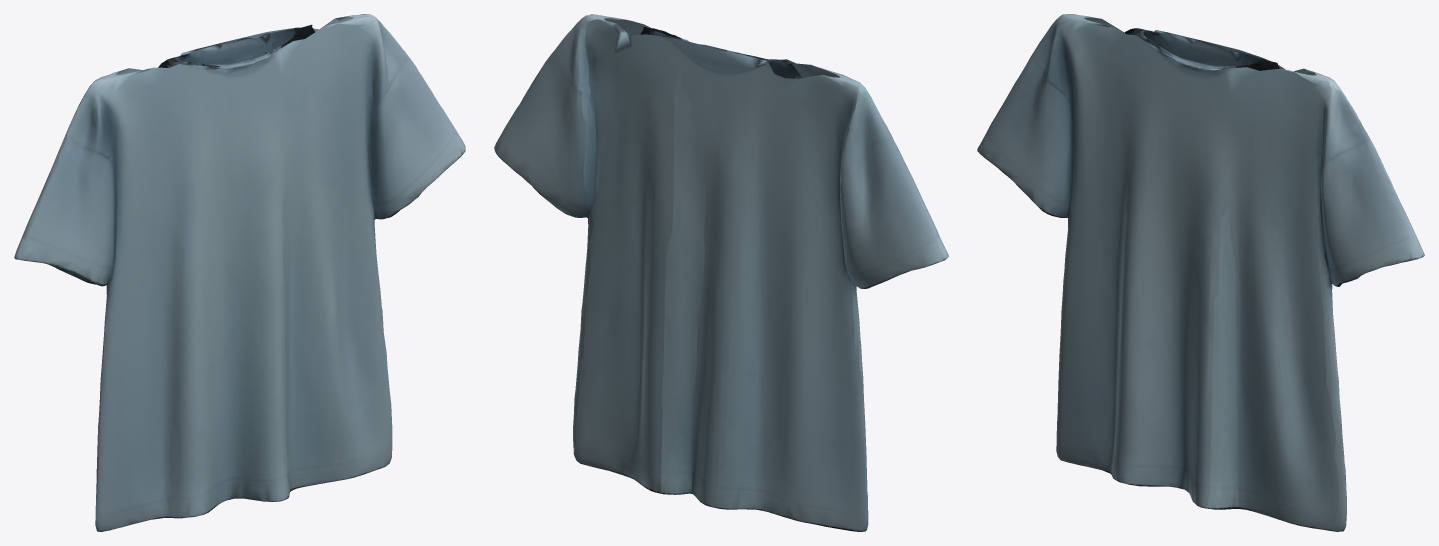
Rendered from sky-product.glb.
3 views of the same model, side by side, from view 1: azimuth 30°, elevation 25°; view 2: azimuth 150°, elevation 25°; view 3: azimuth 330°, elevation 25° (orthographic).
Parts seen in each view (by area): view 1: geometry_0; view 2: geometry_0; view 3: geometry_0.
Boxes of the visible parts, x1,y1,x2,y2 form: geometry_0: (14,14,465,531); geometry_0: (494,14,948,531); geometry_0: (977,14,1424,531).
Size of the model in its own units: 0.7103 by 0.685 by 0.1043.
Materials: 1 (1 with a texture image).
